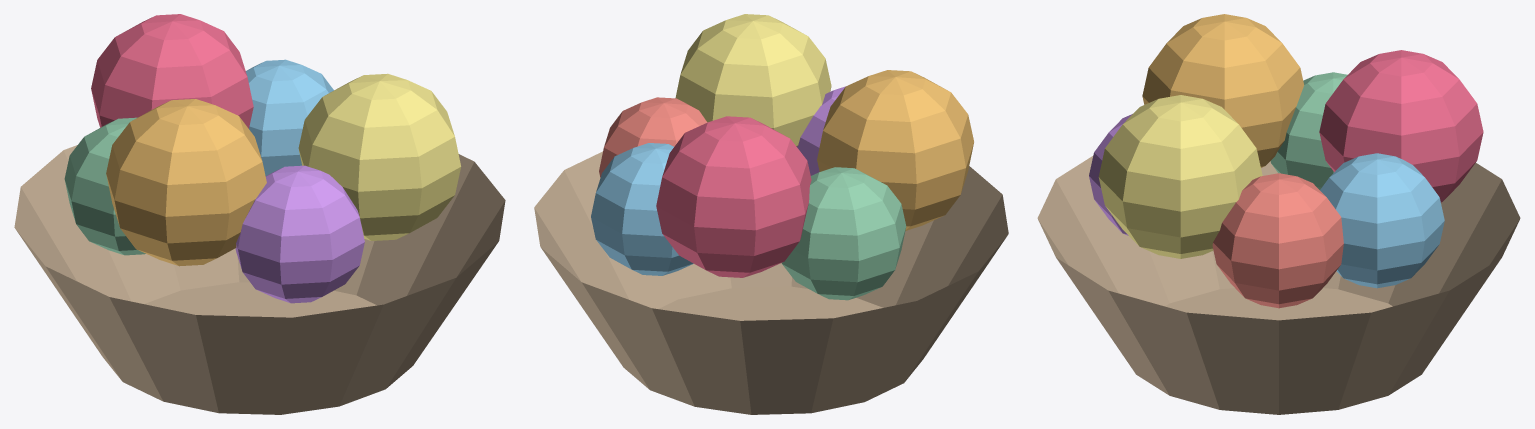
Rendered from 4181_fruit_bowl.glb.
3 renders of one model, left to right at view 1: azimuth 30°, elevation 25°; view 2: azimuth 150°, elevation 25°; view 3: azimuth 270°, elevation 25°, orthographic. The views are drawn at different scales.
Size of the model in its own units: 1 by 0.64 by 1.
